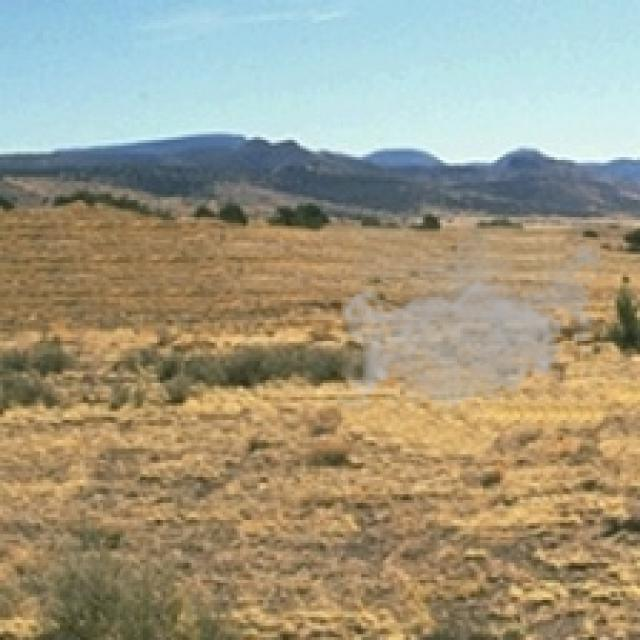Smoke: (337, 220, 612, 420)
